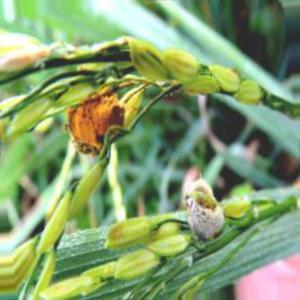Leaf_Scald: (70, 88, 127, 156)
